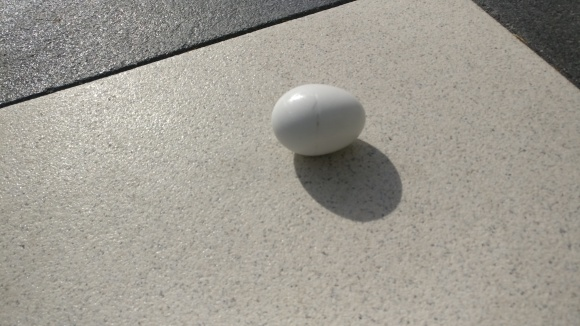egg: (270, 84, 367, 157)
